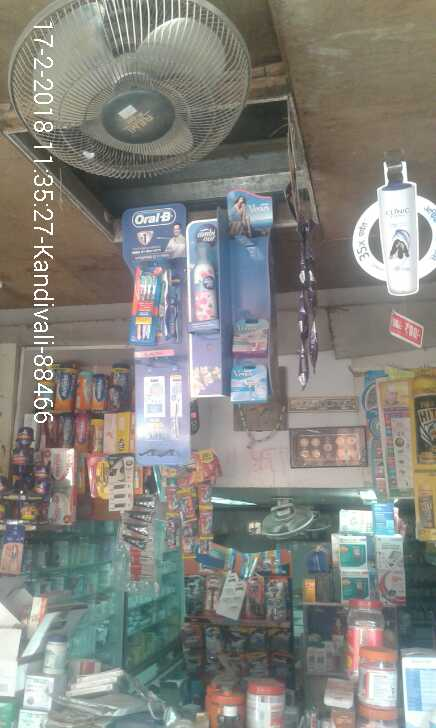beauty: (229, 359, 268, 406), (229, 326, 272, 356)
home: (187, 236, 221, 317)
pharmacy: (134, 256, 172, 348)
